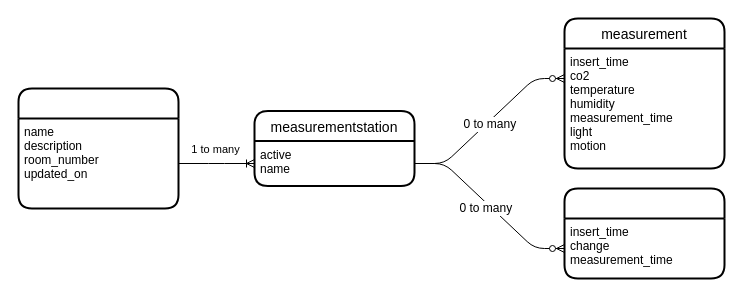
This 742x296 diagram has some shape labels left out. The box of each missing label's shape, as (x1, y1, x2, y2) in pixels:
classroom: (17, 87, 179, 209)
entranceevent: (563, 187, 725, 279)
